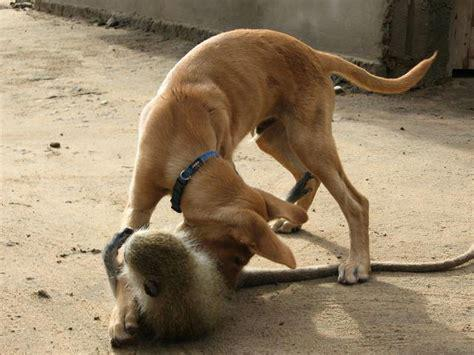dog: (122, 29, 430, 281)
monkey: (103, 230, 474, 347)
